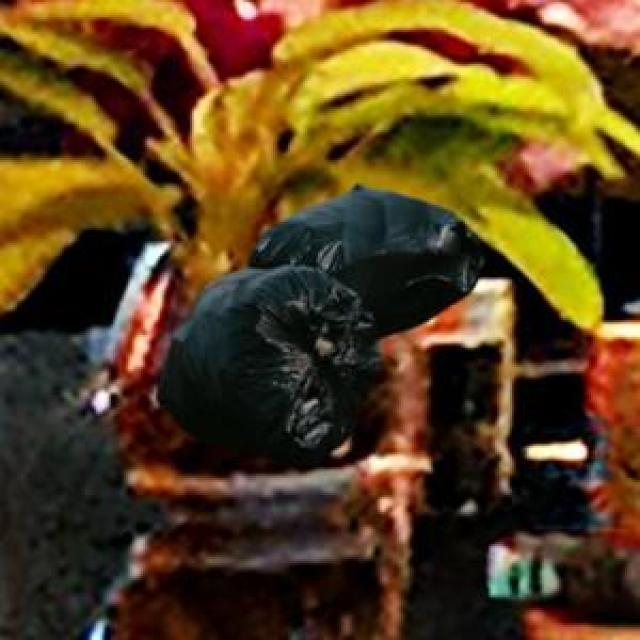waste: (160, 188, 479, 467)
